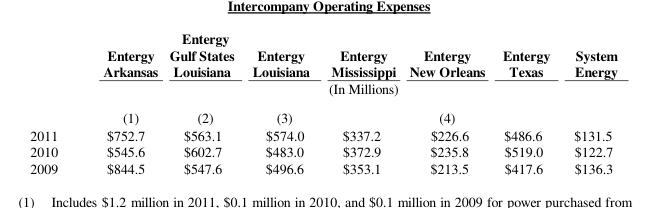table: (29, 28, 617, 177)
table column: (401, 28, 493, 177), (79, 28, 162, 177), (319, 28, 401, 177), (162, 28, 242, 177), (242, 28, 319, 177), (493, 28, 561, 177), (561, 28, 617, 177), (29, 28, 79, 177)
table column header: (29, 28, 617, 125)
table row: (29, 28, 617, 79), (29, 79, 617, 102), (29, 102, 617, 125), (29, 159, 617, 177), (29, 125, 617, 142), (29, 142, 617, 159)
table spanning cell: (79, 79, 617, 102)
